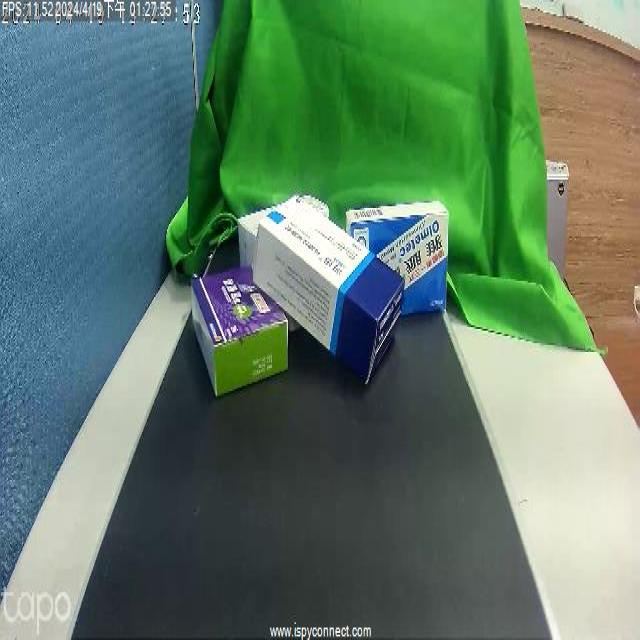box: (264, 210, 398, 385), (360, 200, 447, 330), (203, 253, 277, 389)
